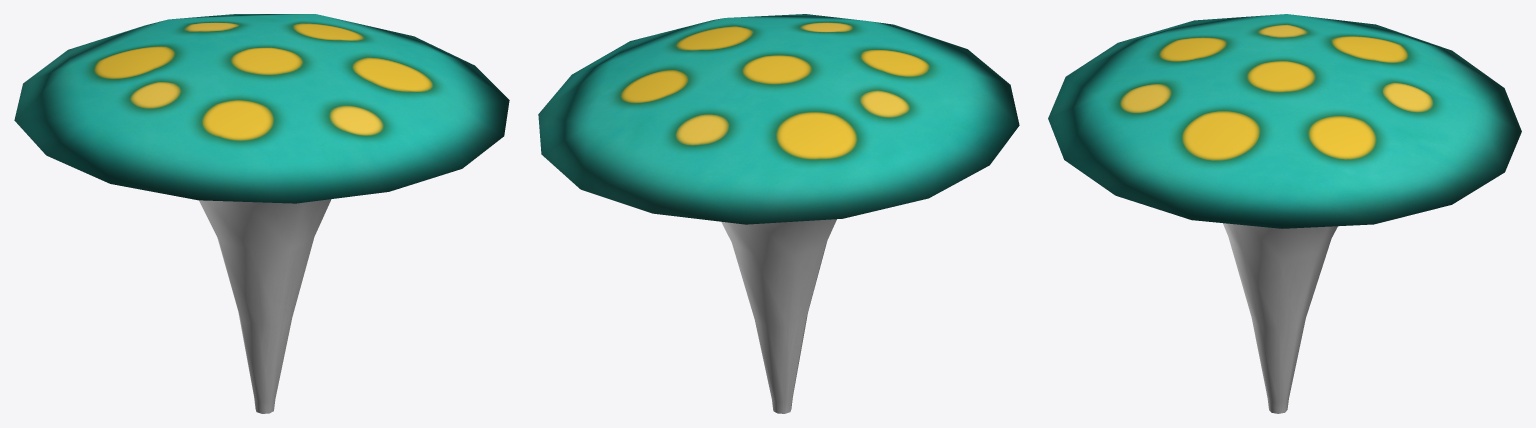
The model's file is Mushroom_Straight2_Blue.fbx.
The picture shows the model from 3 angles, left to right: view 1: azimuth 30°, elevation 25°; view 2: azimuth 150°, elevation 25°; view 3: azimuth 270°, elevation 25°; orthographic projection. The views are drawn at different scales.
Parts seen in each view (by area): view 1: Mesh; view 2: Mesh; view 3: Mesh.
Part boxes in pixels (x1,y1,x2,y2): Mesh: (14,14,509,413); Mesh: (538,14,1019,413); Mesh: (1048,14,1521,413).
Bounding box in the file's own units: 315 × 246 × 313.
